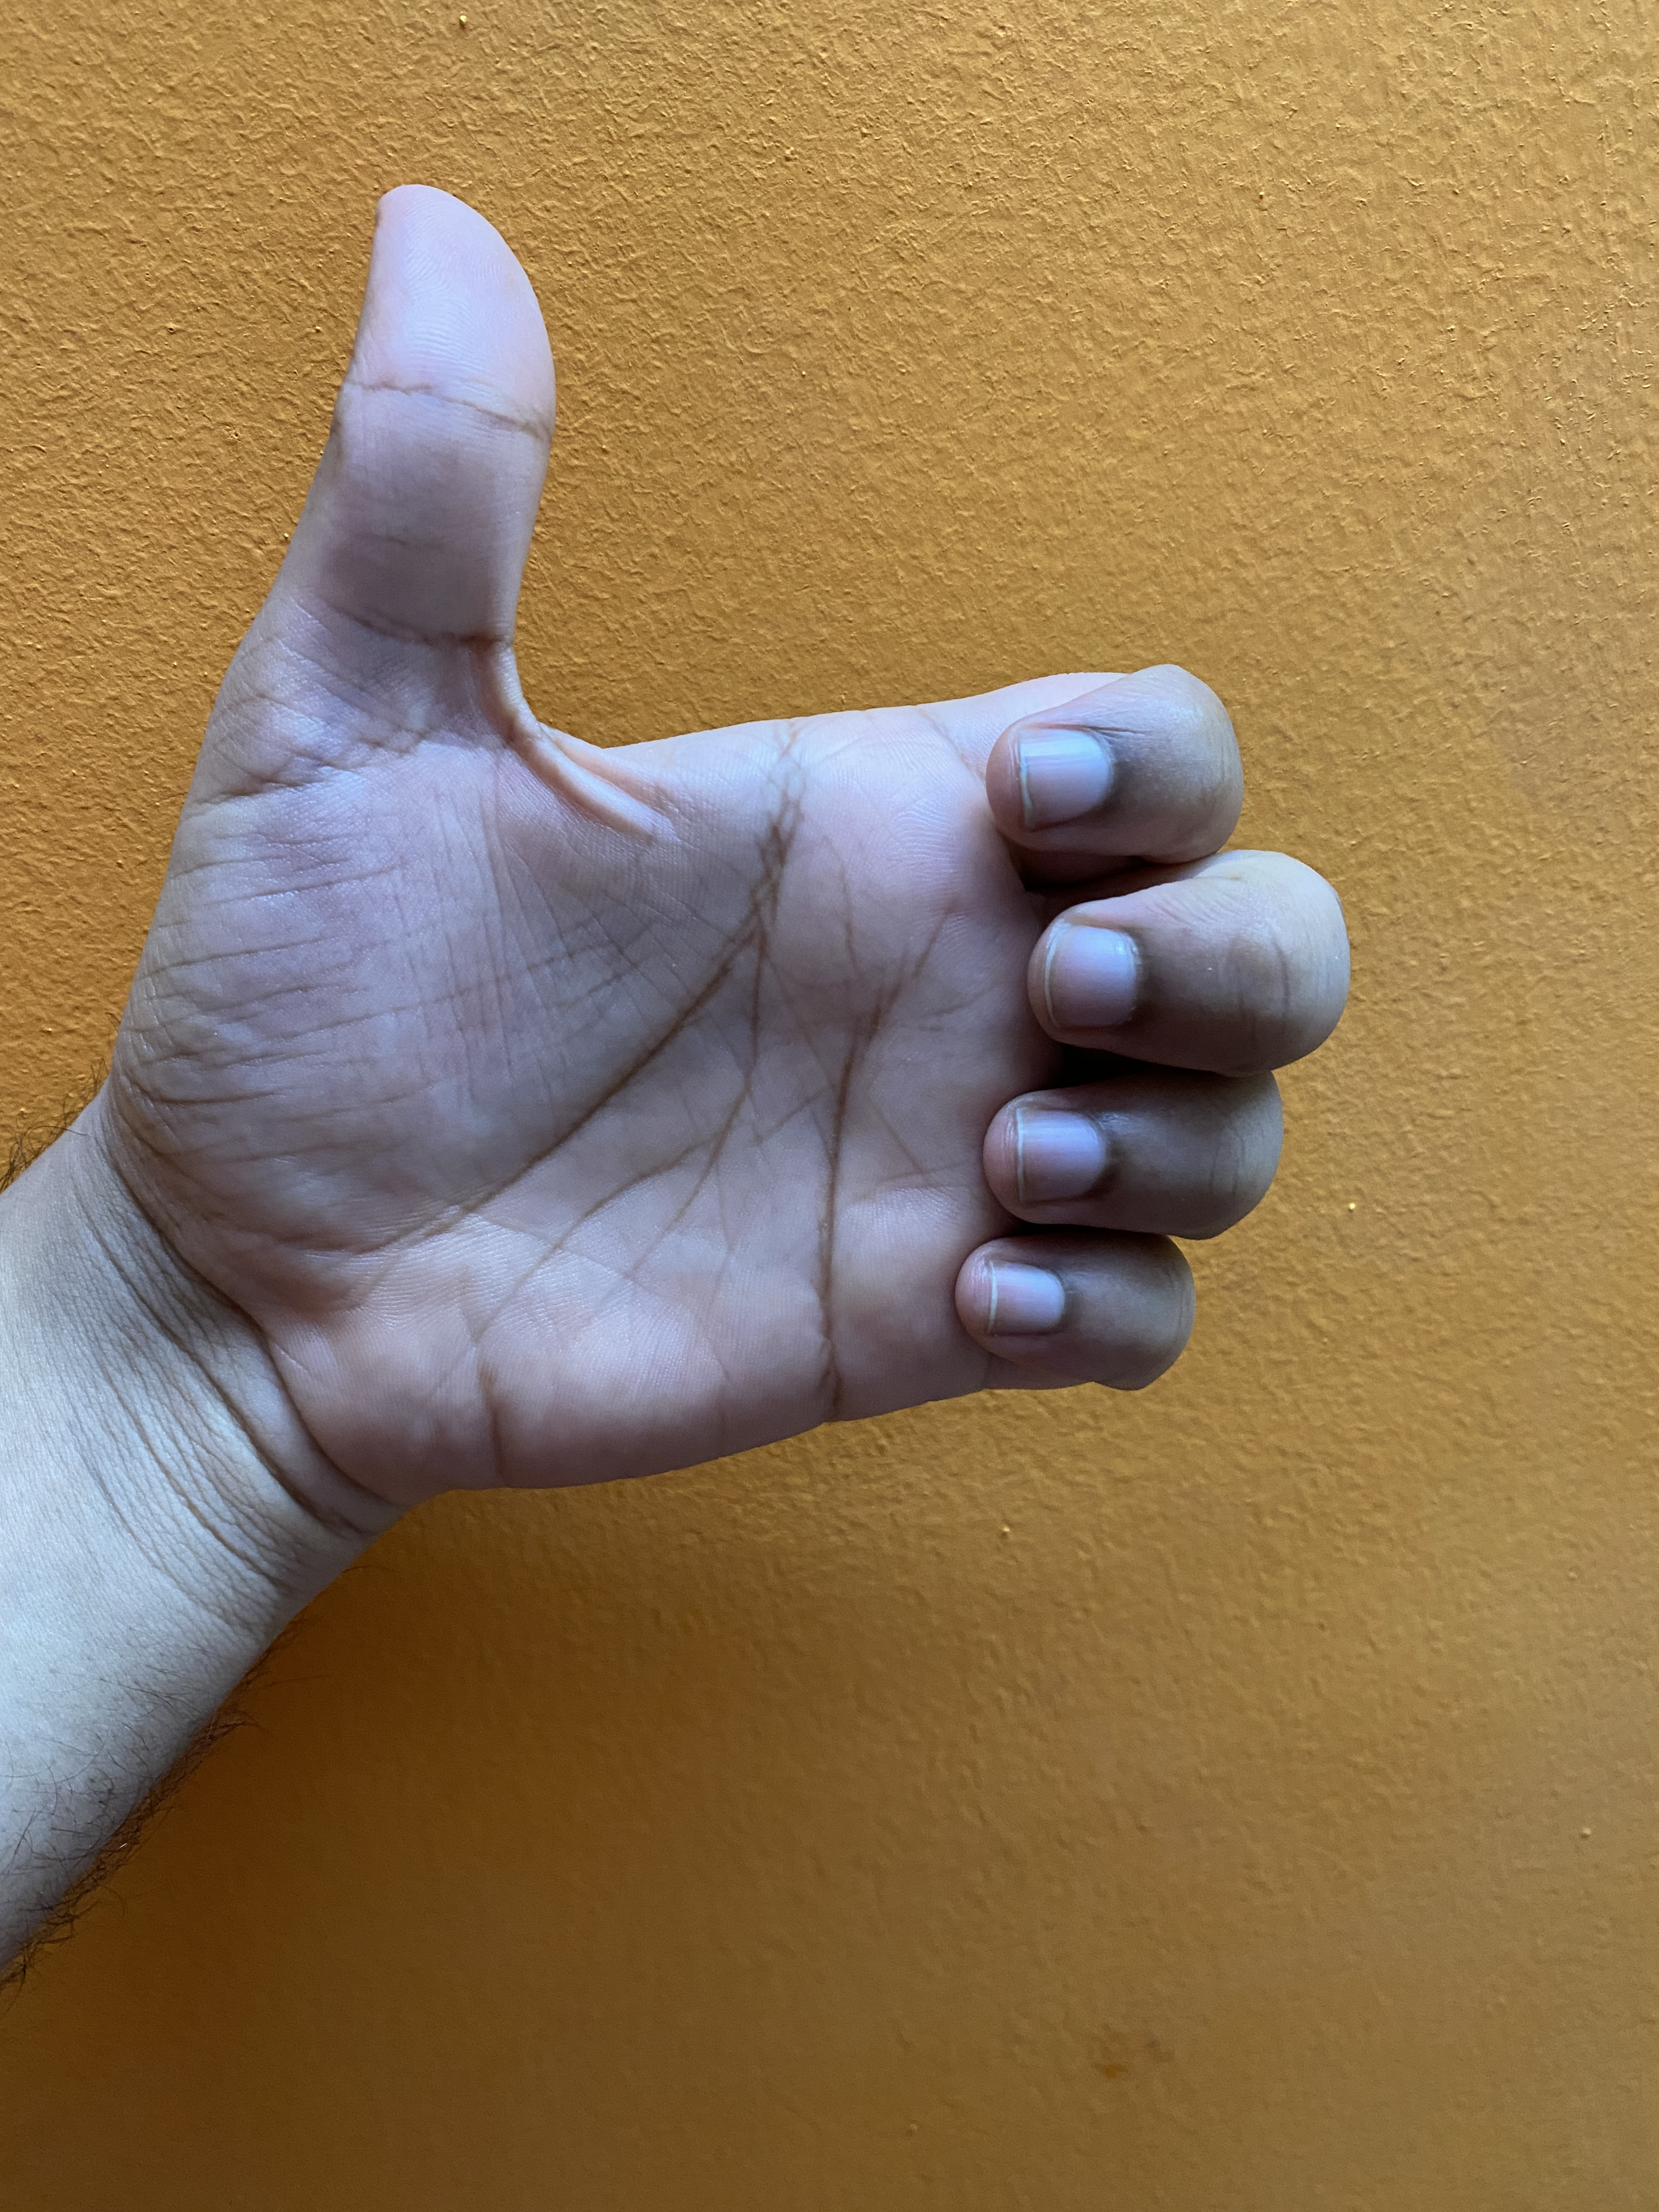up: (148, 141, 1431, 1674)
